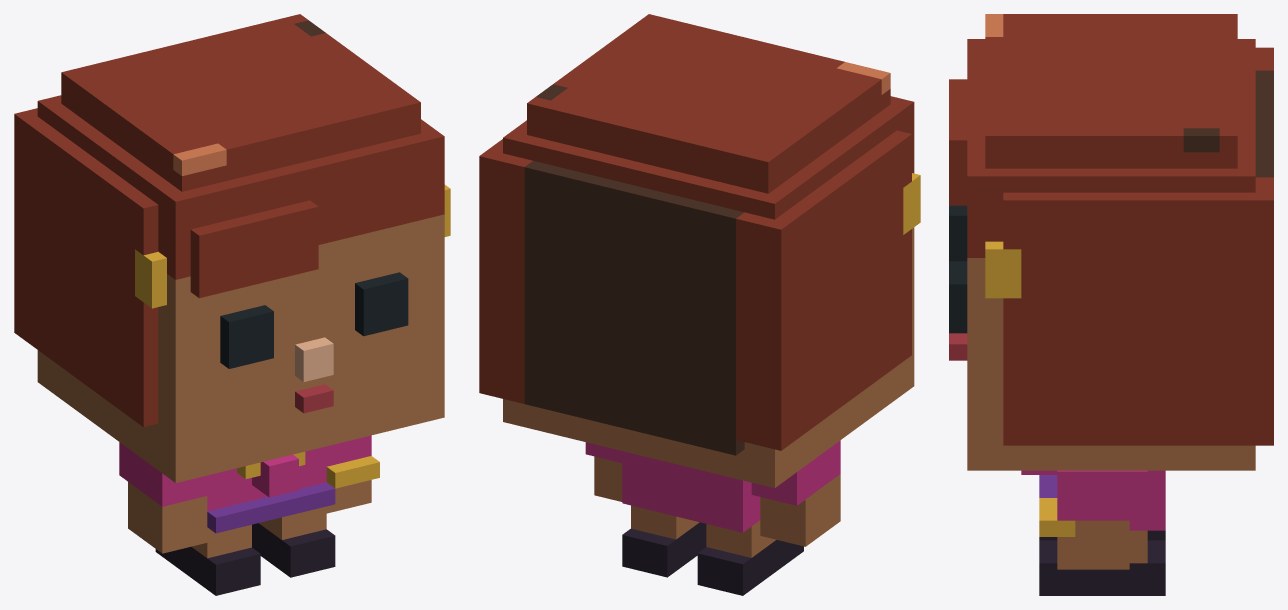
Rendered from party_woman.glb.
3 views of the same model, side by side, from view 1: azimuth 30°, elevation 25°; view 2: azimuth 150°, elevation 25°; view 3: azimuth 270°, elevation 25° (orthographic). The views are drawn at different scales.
Visible parts, largest first — view 1: head, torso, arm_left, leg_left, leg_right, arm_right; view 2: head, torso, arm_left, leg_left, leg_right, arm_right; view 3: head, arm_right, leg_right, torso.
Part boxes in pixels (box(x1,y1,x2,y2)): head: box(14, 14, 450, 482); torso: box(207, 446, 335, 533); arm_left: box(119, 442, 207, 553); leg_left: box(155, 524, 260, 595); leg_right: box(252, 506, 335, 577); arm_right: box(326, 435, 379, 513); head: box(479, 14, 920, 488); torso: box(622, 451, 760, 532); arm_left: box(751, 440, 840, 546); leg_left: box(697, 520, 803, 595); leg_right: box(622, 505, 706, 577); arm_right: box(585, 442, 622, 501); head: box(949, 14, 1273, 470); arm_right: box(1039, 470, 1147, 569); leg_right: box(1039, 530, 1165, 595); torso: box(1021, 470, 1165, 530).
Size of the model in its own units: 1 by 1.5 by 0.9.
Materials: 1 (1 with a texture image).
